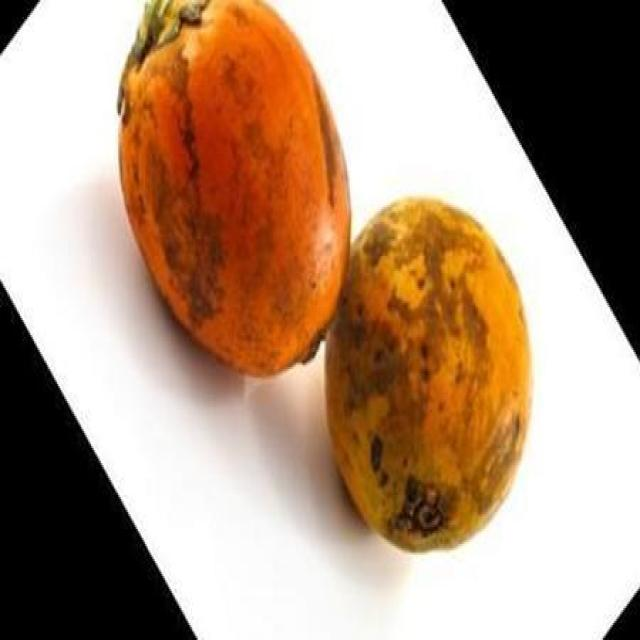good: (118, 0, 350, 380), (324, 196, 535, 555)
